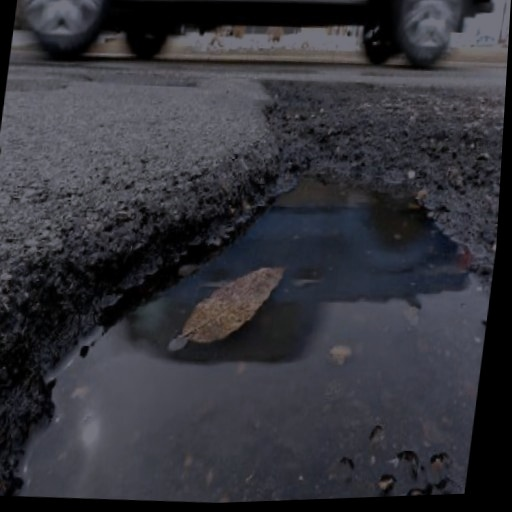pothole: (0, 47, 508, 512)
